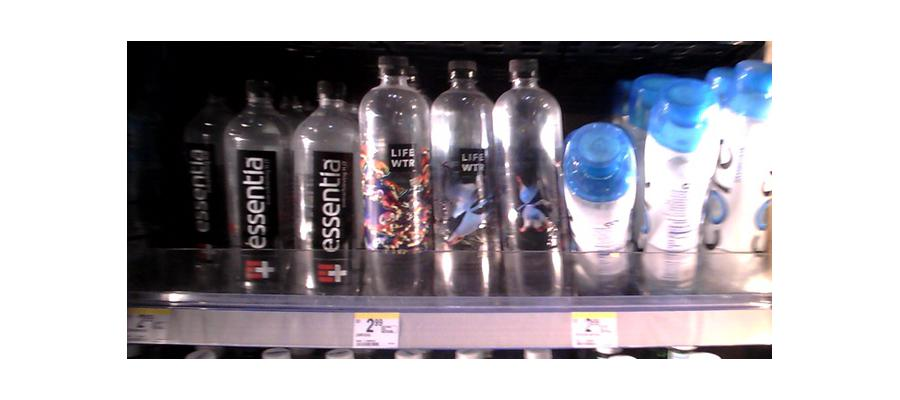bottle: (701, 57, 776, 307), (359, 51, 431, 296), (494, 57, 563, 302), (638, 78, 712, 296), (223, 73, 291, 302), (432, 58, 496, 301), (292, 75, 358, 300), (565, 120, 638, 298)
